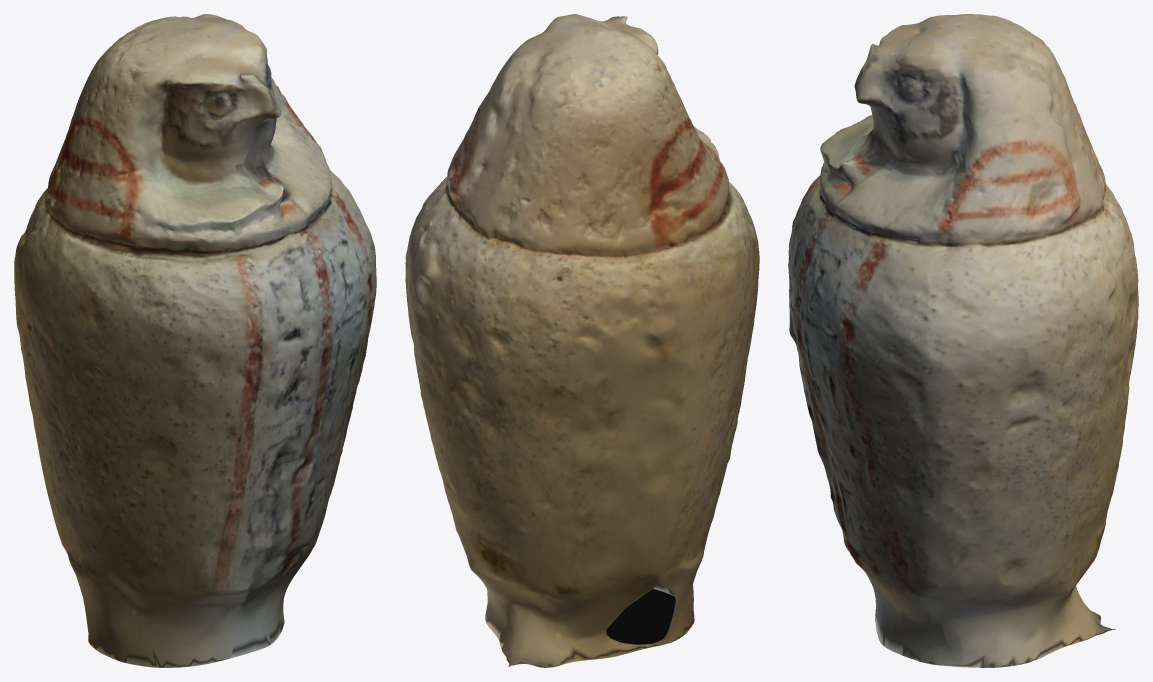
The model's file is canopic_jar.glb.
The picture shows the model from 3 angles, left to right: view 1: azimuth 30°, elevation 25°; view 2: azimuth 150°, elevation 25°; view 3: azimuth 270°, elevation 25°; orthographic projection. The views are drawn at different scales.
Parts seen in each view (by area): view 1: Object_3; view 2: Object_3; view 3: Object_3.
Boxes of the visible parts, <box> form: Object_3: <box>14,14,376,667</box>; Object_3: <box>405,14,759,667</box>; Object_3: <box>788,14,1138,667</box>.
Bounding box in the file's own units: 12.01 × 21.63 × 11.41.
Materials: 1 (1 with a texture image).
